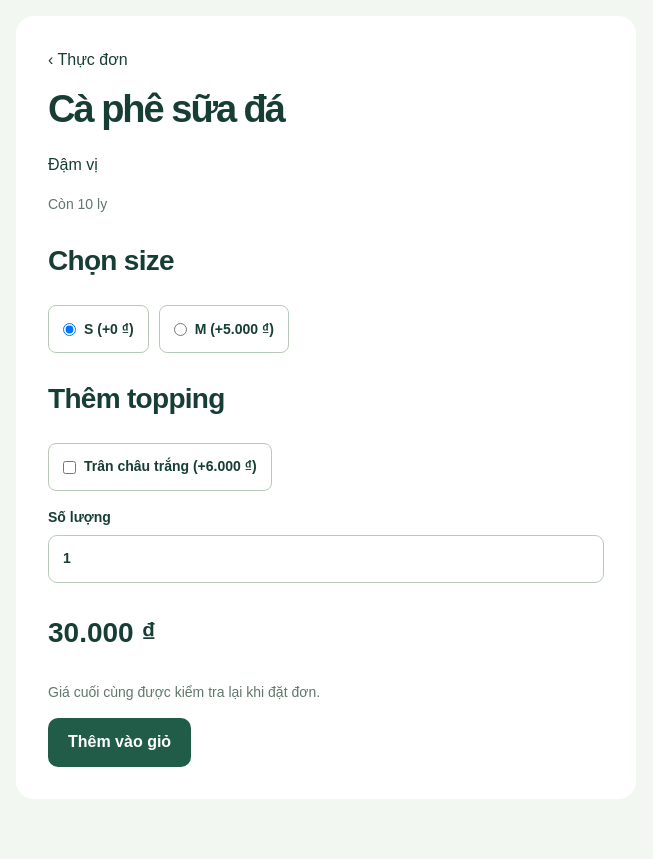
Test case: updates preview price on size/topping selection and persists into brewlite_cart
This screenshot has width=653, height=859.
Expected: the heading "Cà phê sữa đá" is shown, [48,88,284,130]
Expected: the text with test id "dynamic-price" shows "30.000", [48,617,156,648]
What coordinates should you click on to do the following:
click the radio button labelled "M (+5.000 ₫)"
I would click on:
 (180, 329)
Its box is [174,323,187,336].
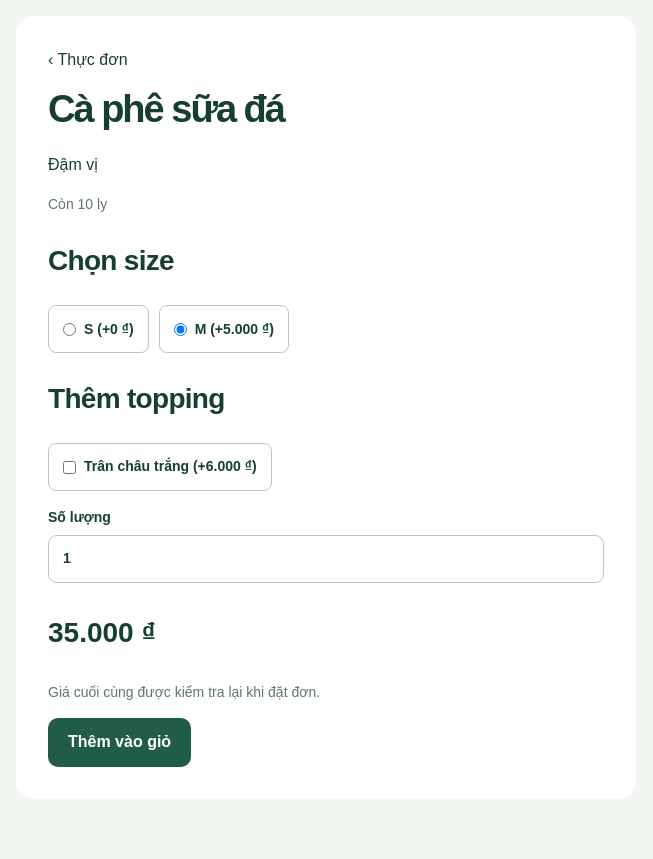
What coordinates should you click on to do the following:
click the checkbox labelled "Trân châu trắng (+6.000 ₫)"
I would click on:
 (70, 467)
Its box is [63,461,76,474].
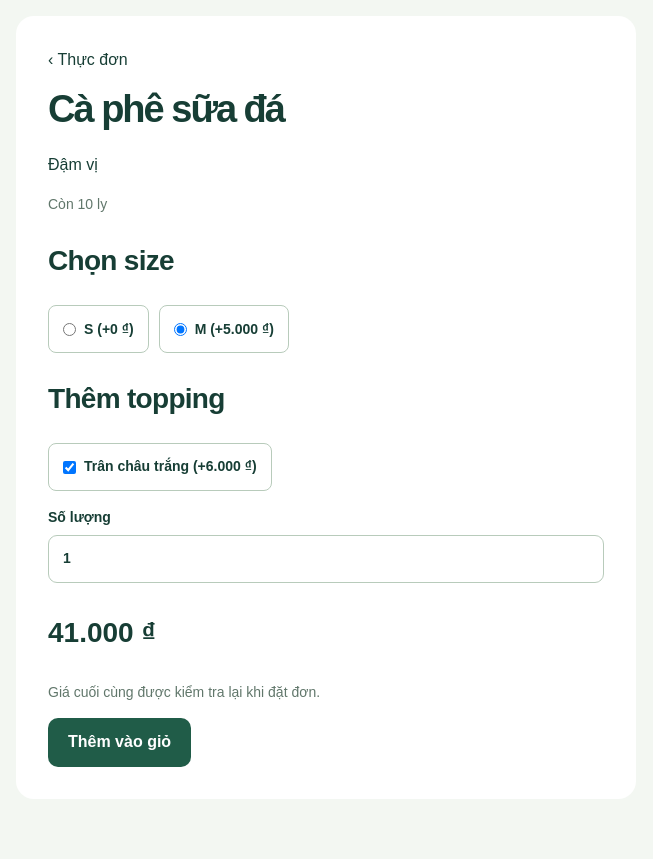
Expected: the text with test id "dynamic-price" shows "41.000", [48,617,156,648]
What coordinates should you click on to do the following:
click the button "Thêm vào giỏ"
I would click on:
 (120, 742)
Its box is [48,718,191,767].
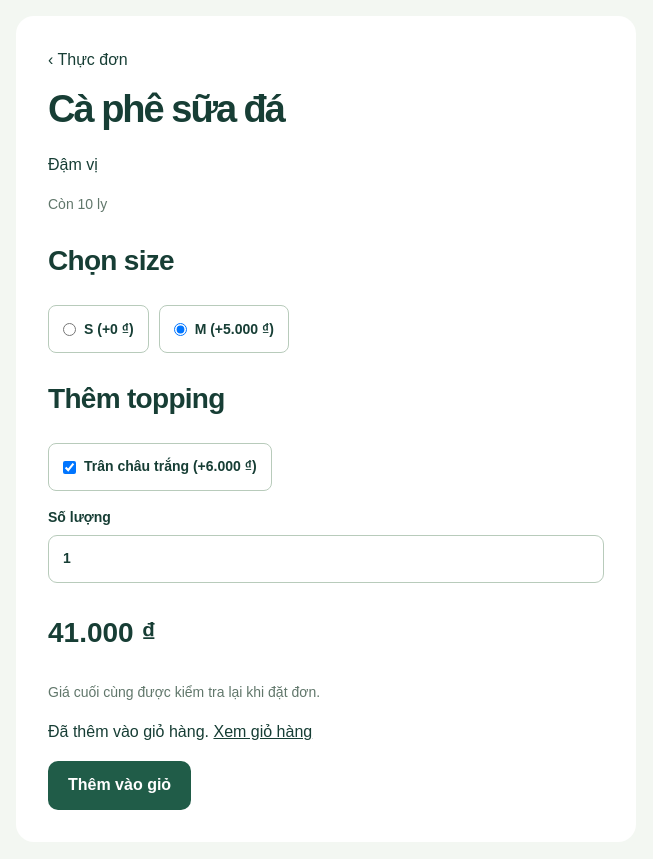
Expected: the text "Đã thêm vào giỏ hàng. Xem giỏ hàng" is shown, [48,723,312,740]
